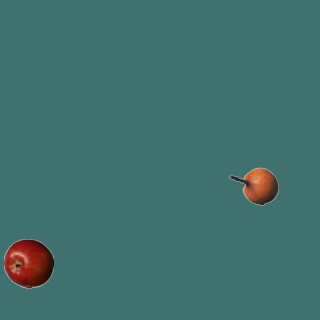Apple Braeburn: (3, 238, 53, 288)
Granadilla: (228, 161, 278, 211)
